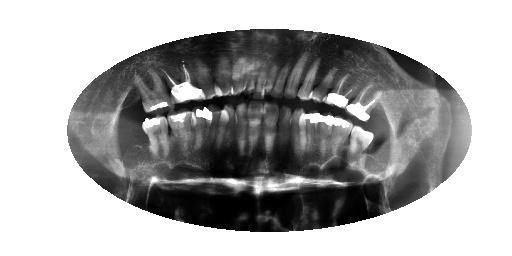i10healthy: (266, 60, 277, 96)
i11healthy: (272, 58, 287, 99)
i12healthy: (285, 49, 302, 100)
i13healthy: (297, 55, 322, 101)
i14healthy: (309, 66, 333, 103)
i15healthy: (326, 73, 355, 109)
i16healthy: (344, 87, 386, 122)
i1loss: (116, 78, 143, 115)
i2healthy: (130, 69, 175, 114)
i3healthy: (161, 64, 204, 105)
i4healthy: (195, 61, 219, 98)
i5healthy: (213, 55, 233, 97)
i6healthy: (227, 58, 236, 98)
i7healthy: (237, 59, 245, 97)
i8healthy: (246, 58, 254, 99)
i9healthy: (253, 56, 266, 99)
u10healthy: (277, 104, 291, 156)
u11healthy: (290, 105, 305, 158)
u12healthy: (302, 112, 314, 158)
u13healthy: (314, 113, 329, 160)
u14healthy: (329, 116, 355, 158)
u15healthy: (167, 110, 195, 158), (349, 123, 374, 160)
u16healthy: (141, 116, 171, 157)
u16loss: (365, 126, 390, 160)
u3healthy: (192, 106, 213, 153)
u4decay: (208, 106, 222, 152)
u5healthy: (217, 110, 229, 152)
u6chipped: (225, 103, 237, 155)
u7healthy: (236, 101, 248, 155)
u8healthy: (248, 100, 264, 157)
u9healthy: (264, 100, 278, 156)
